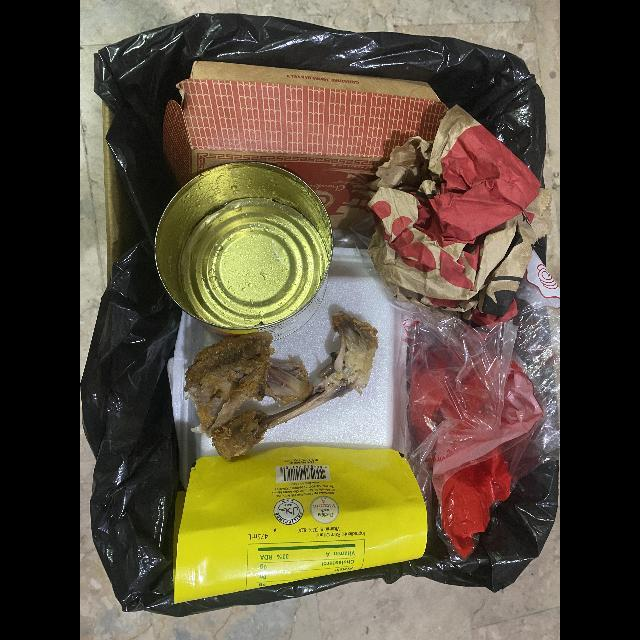biowaste: (186, 313, 378, 460)
metal: (156, 163, 336, 336)
paper: (162, 59, 451, 230), (369, 105, 552, 317)
plastic: (405, 244, 560, 563)
styrofoam: (167, 242, 409, 494)
wrapper: (173, 447, 429, 604)
